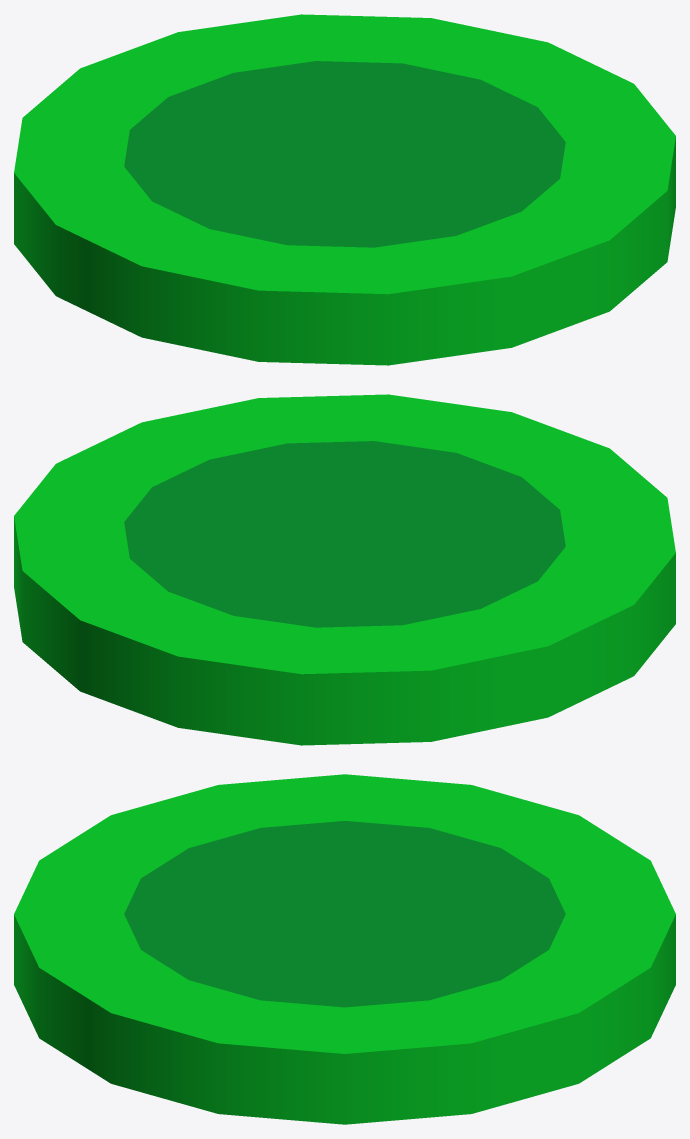
Rendered from Deceleration.fbx.
3 views of the same model, one above another, from view 1: azimuth 30°, elevation 25°; view 2: azimuth 150°, elevation 25°; view 3: azimuth 270°, elevation 25° (orthographic).
Parts seen in each view (by area): view 1: Deceleration; view 2: Deceleration; view 3: Deceleration.
Part boxes in pixels (x1,y1,x2,y2): Deceleration: (14,14,675,365); Deceleration: (14,394,675,745); Deceleration: (14,774,675,1124).
Bounding box in the file's own units: 0.9857 × 0.1161 × 0.9857.
